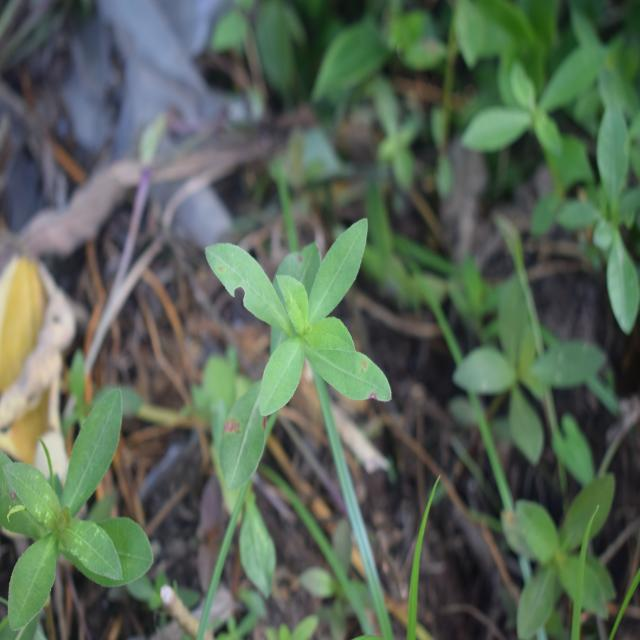Alligatorweed: (182, 226, 396, 472), (0, 402, 155, 622)
